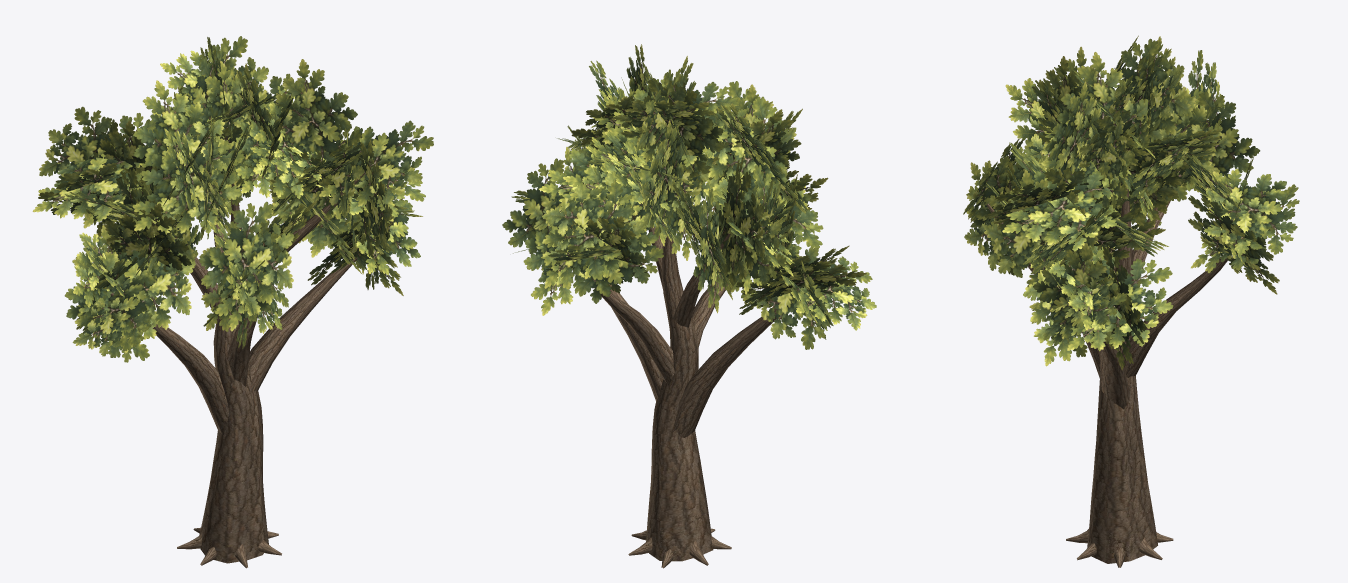
The model's file is cincis-oak-mid-study.glb.
3 renders of one model, left to right at view 1: azimuth 30°, elevation 25°; view 2: azimuth 150°, elevation 25°; view 3: azimuth 270°, elevation 25°, orthographic. The views are drawn at different scales.
Visible parts, largest first — view 1: Foliage, Trunk and branches; view 2: Foliage, Trunk and branches; view 3: Foliage, Trunk and branches.
Boxes of the visible parts, left/top/right/bottom form: Foliage: left=32, top=36, right=433, bottom=362; Trunk and branches: left=110, top=173, right=364, bottom=568; Foliage: left=502, top=44, right=876, bottom=349; Trunk and branches: left=583, top=222, right=777, bottom=568; Foliage: left=963, top=35, right=1299, bottom=370; Trunk and branches: left=986, top=171, right=1231, bottom=567.
Size of the model in its own units: 7.06 by 8.86 by 6.19.
Materials: 2 (2 with a texture image).
